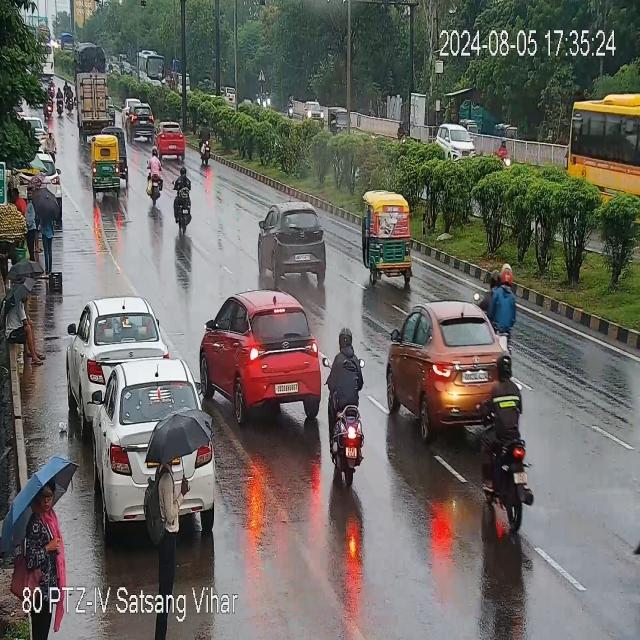2-wheelers: (476, 347, 550, 543), (324, 302, 365, 500), (480, 261, 530, 369), (164, 163, 204, 242), (194, 107, 222, 169), (145, 147, 167, 213), (496, 134, 512, 168), (44, 126, 56, 164), (395, 116, 409, 144), (44, 88, 53, 120), (286, 93, 297, 119), (56, 86, 64, 118), (66, 84, 74, 114), (62, 77, 70, 101)
auto: (358, 190, 422, 300), (89, 135, 123, 201), (328, 96, 350, 135)
bus: (564, 81, 640, 191), (29, 31, 61, 86), (139, 49, 167, 86)
car: (97, 362, 238, 550), (376, 289, 514, 439), (202, 274, 322, 422), (64, 296, 179, 432), (246, 190, 342, 284), (20, 156, 64, 218), (434, 118, 479, 160), (126, 103, 156, 145), (157, 120, 187, 158), (26, 107, 46, 146), (120, 92, 140, 125), (304, 98, 324, 126), (223, 82, 238, 102), (120, 59, 136, 75)
pedestrian: (142, 411, 217, 578), (5, 452, 85, 587), (0, 277, 43, 374), (33, 181, 64, 272), (5, 253, 41, 316), (11, 183, 30, 228)
truck: (75, 64, 115, 130), (74, 38, 106, 78), (174, 70, 192, 95)
